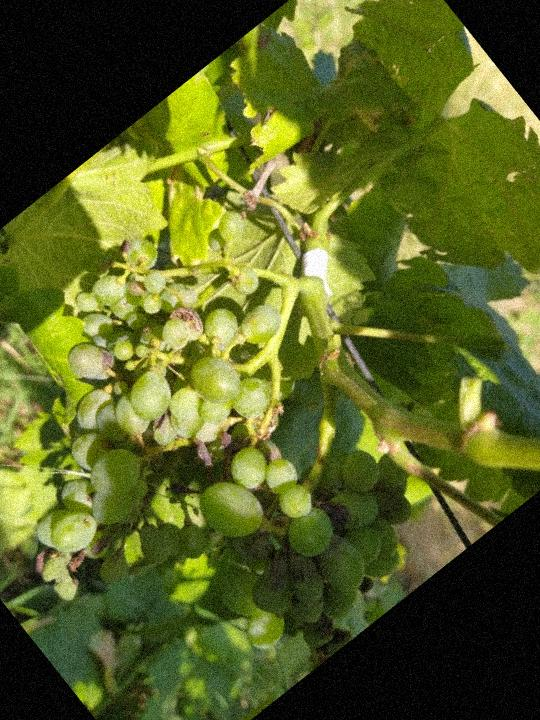grape: (0, 171, 503, 720)
